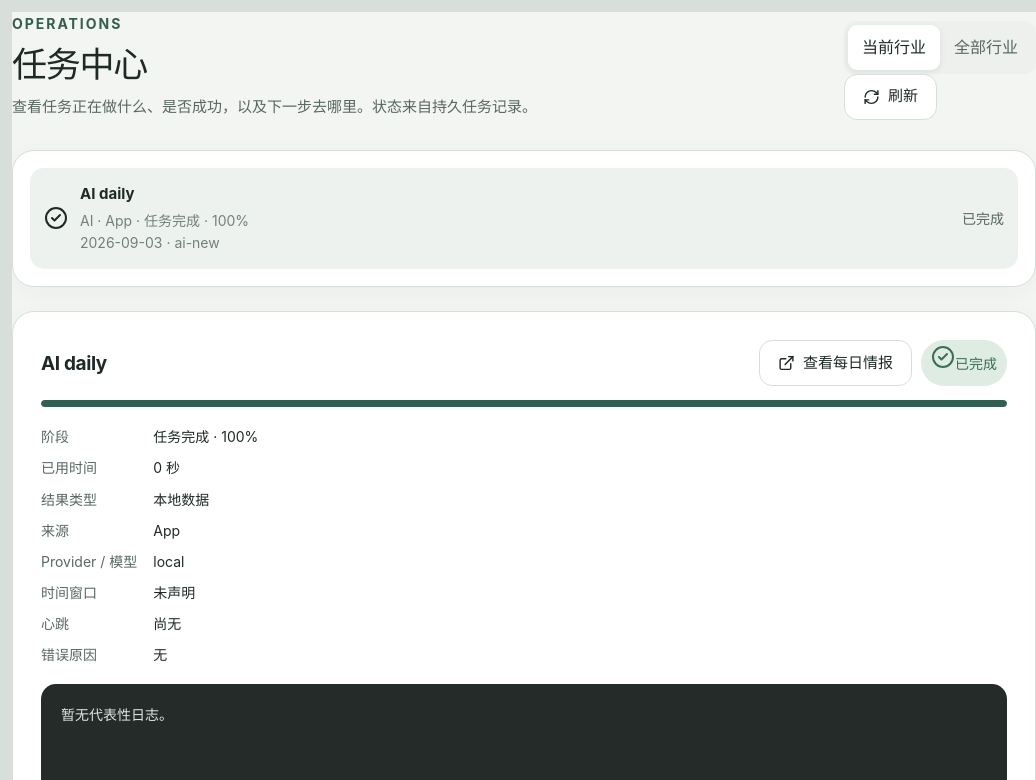
Test: critical workbench workflows › defaults to the newest current-industry job and can reveal all industries
The width and height of the screenshot is (1036, 780).
Expected: the heading "AI daily" is shown, [41,348,107,379]
Expected: the text "CHIPS report" is not shown
Step 1. Click the button "全部行业" → click(986, 48), box [940,26,1032,70]
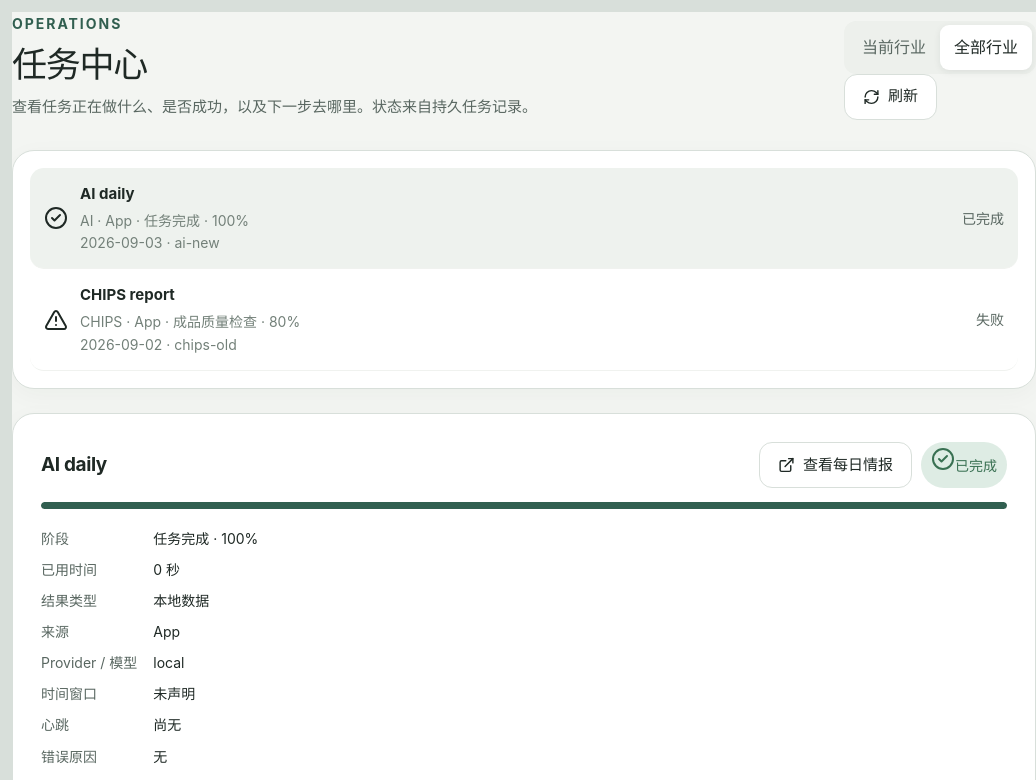
Now the text "CHIPS report" is shown, box [80,285,175,304]
